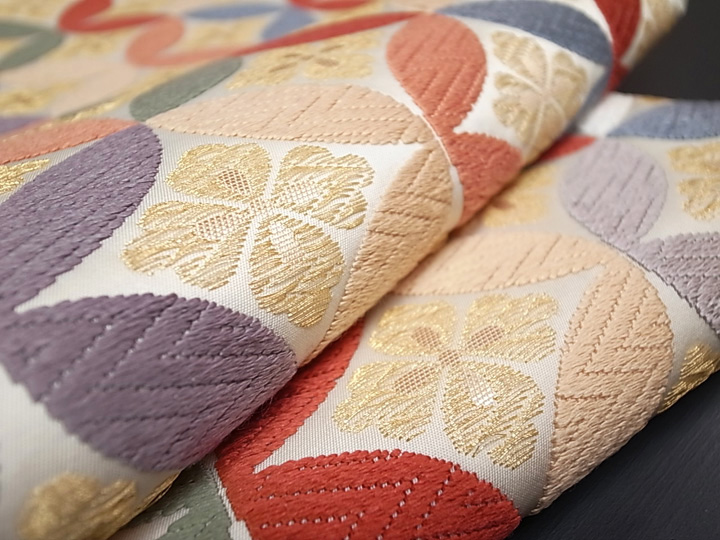flexible: (1, 1, 720, 534)
